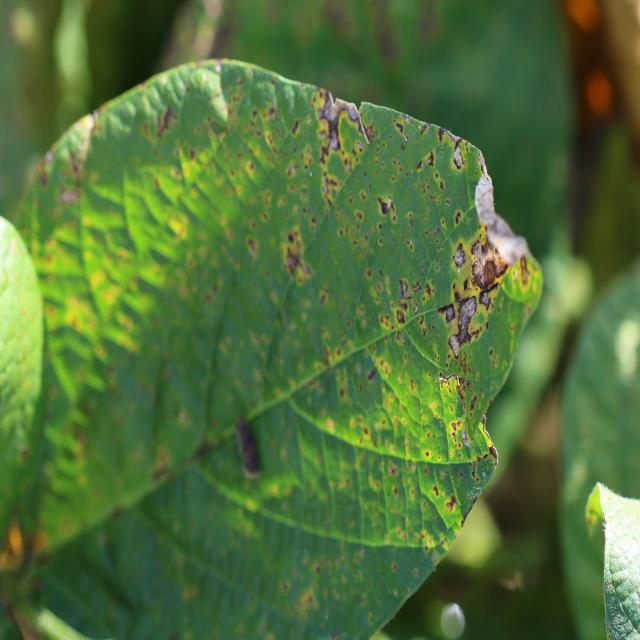Bacterial_Blight: (467, 221, 520, 298), (318, 91, 366, 152), (233, 417, 261, 477), (396, 280, 419, 318), (285, 246, 310, 279), (156, 104, 178, 138), (455, 377, 471, 417), (58, 187, 80, 205), (319, 139, 334, 165), (152, 458, 169, 480), (452, 141, 465, 169), (376, 195, 393, 215), (453, 244, 465, 268), (246, 236, 259, 258), (487, 444, 499, 465), (461, 427, 471, 449), (445, 494, 457, 512), (444, 304, 455, 322), (478, 149, 486, 173), (426, 150, 435, 167)
Soybean: (0, 60, 543, 640)
